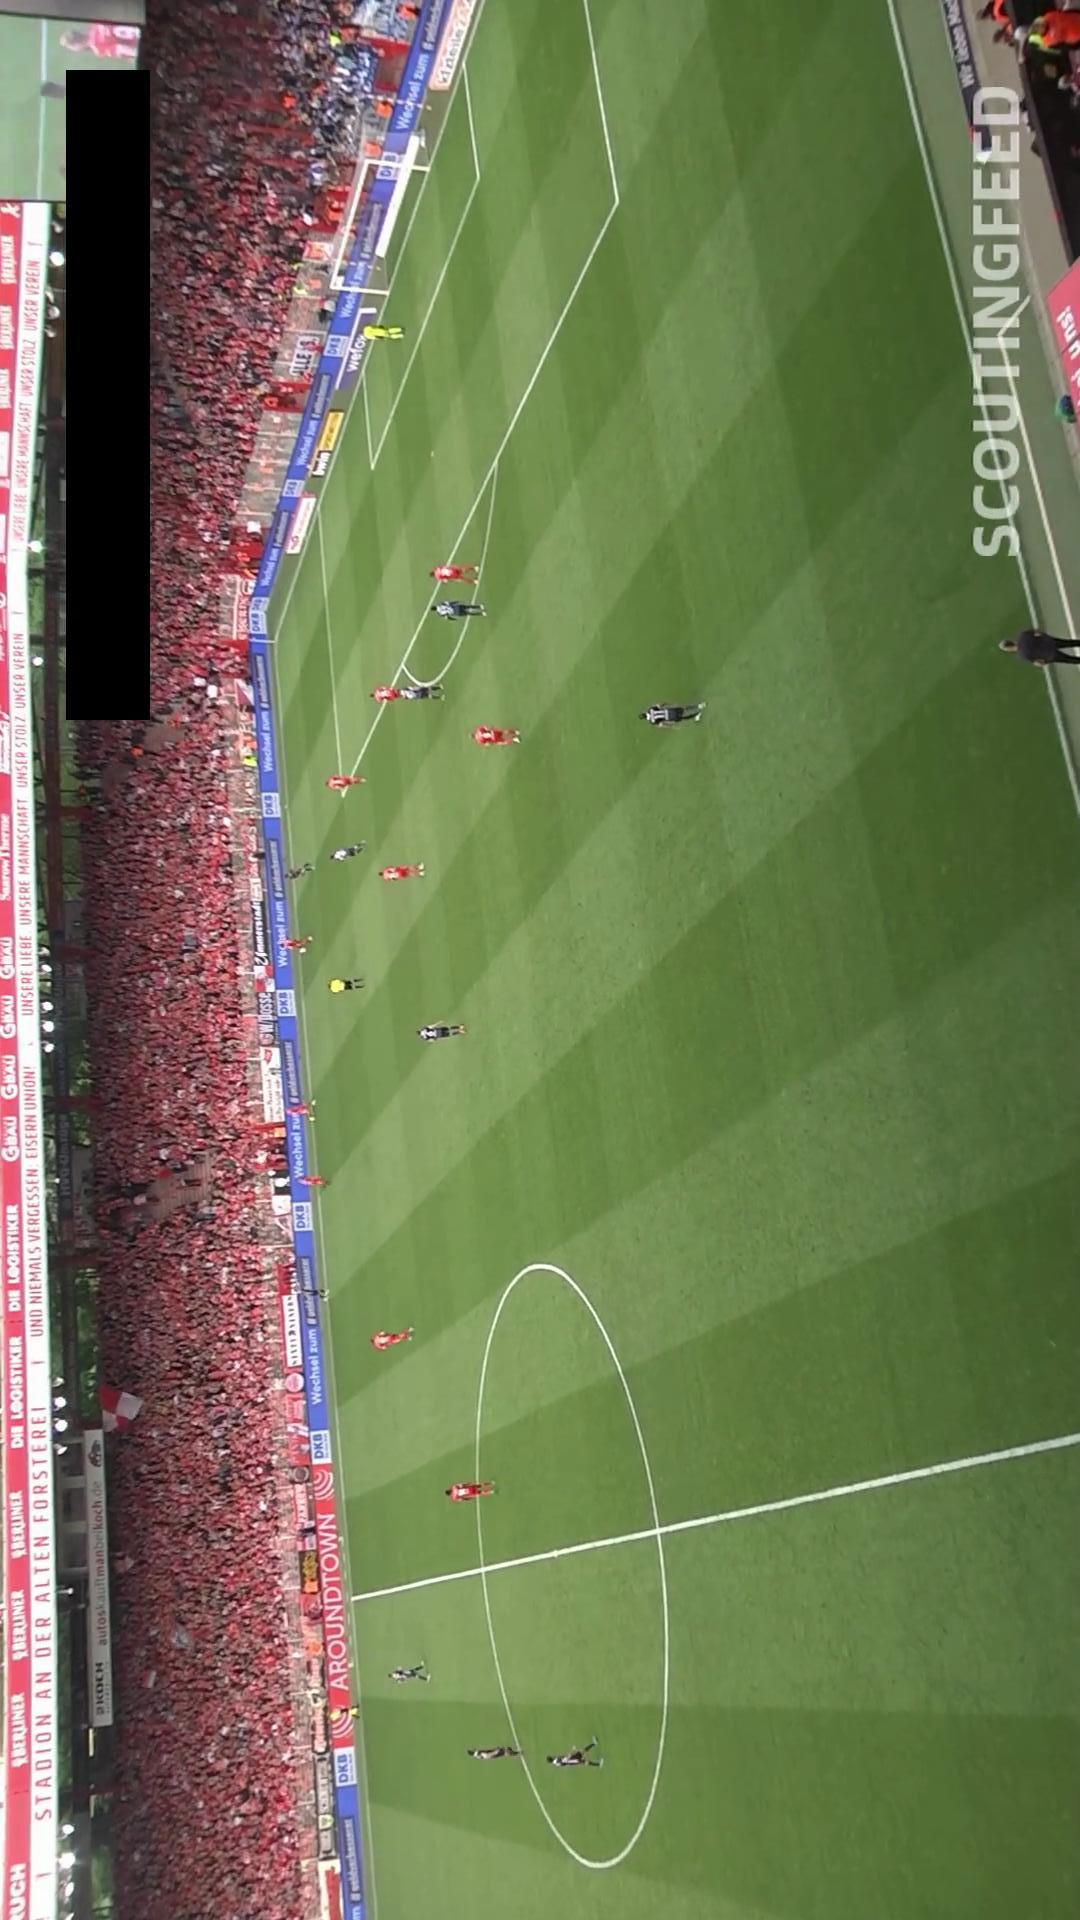ball: (299, 947, 306, 954)
goalkeeper: (356, 324, 404, 342)
player: (545, 1736, 603, 1769), (637, 701, 707, 727), (427, 563, 480, 587), (444, 1480, 497, 1502), (431, 600, 486, 621), (468, 725, 522, 746), (369, 1327, 415, 1351), (415, 1021, 467, 1042), (377, 862, 426, 881), (387, 1663, 430, 1684), (394, 685, 446, 702), (467, 1745, 524, 1760), (368, 686, 417, 703), (329, 842, 367, 861), (324, 774, 367, 790), (284, 1100, 317, 1120), (280, 935, 314, 953), (283, 862, 314, 880), (294, 1285, 328, 1300), (296, 1175, 330, 1188)
referee: (325, 977, 365, 994), (324, 1704, 360, 1722)
